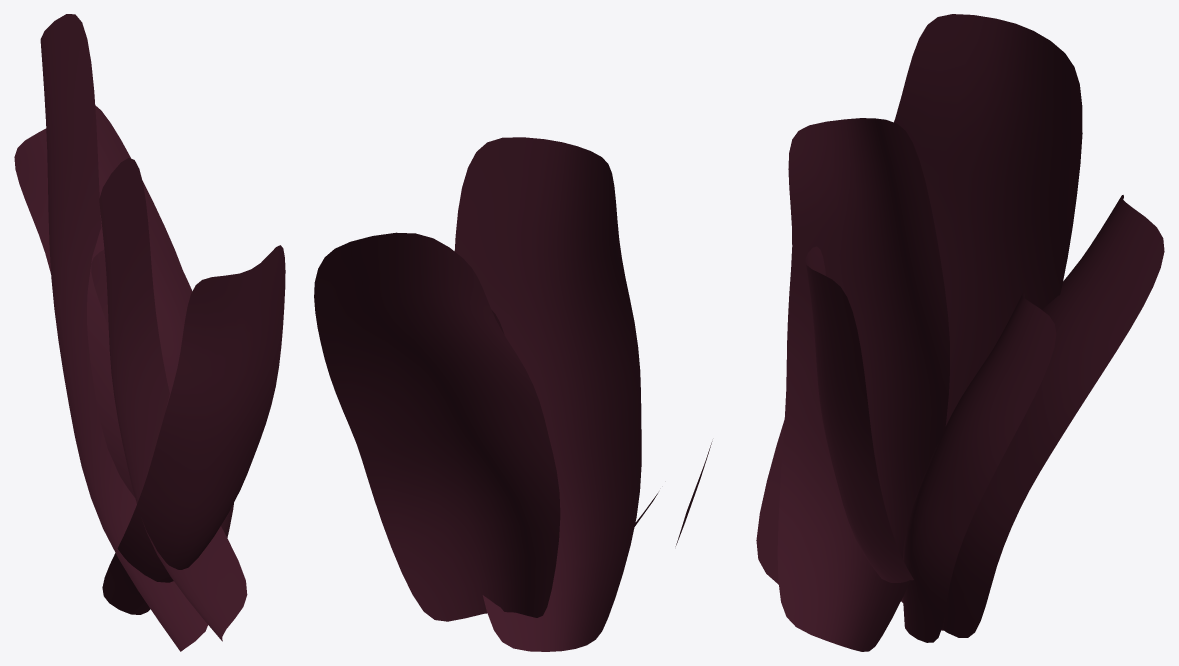
Rendered from SM_Coral_Whip_02.dae.
The picture shows the model from 3 angles, left to right: view 1: azimuth 30°, elevation 25°; view 2: azimuth 150°, elevation 25°; view 3: azimuth 270°, elevation 25°; orthographic projection. The views are drawn at different scales.
Visible parts, largest first — view 1: SM_Coral_Whip_02_LOD0; view 2: SM_Coral_Whip_02_LOD0; view 3: SM_Coral_Whip_02_LOD0.
Part boxes in pixels (x1,y1,x2,y2): SM_Coral_Whip_02_LOD0: (14, 14, 285, 651); SM_Coral_Whip_02_LOD0: (314, 137, 712, 651); SM_Coral_Whip_02_LOD0: (756, 14, 1164, 651).
Size of what is drawn, in the model's own units: 30.47 by 79.02 by 50.54.
